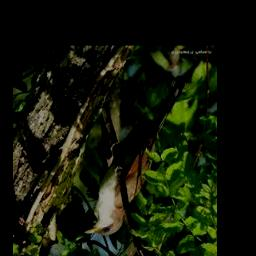Cuckoo: (84, 77, 183, 236)
